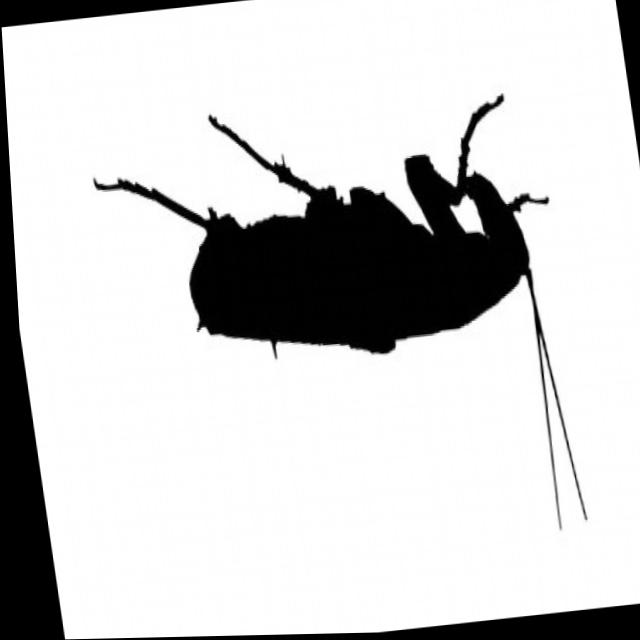Cockroach: (61, 59, 605, 584)
